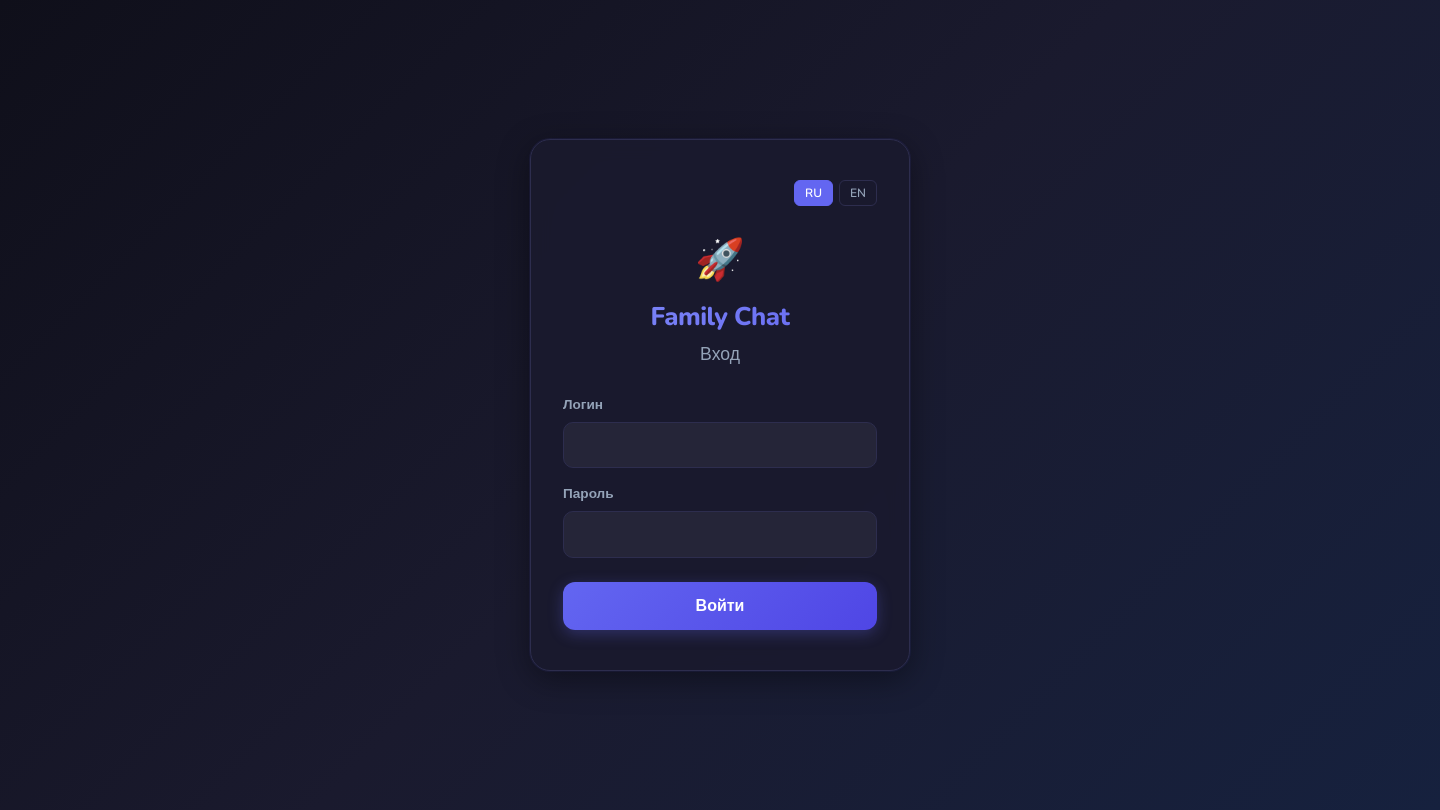
it: Login errors › shows user_inactive message
Type "parent" into the field labelled "Логин" at [720, 445], box [563,422,877,468]
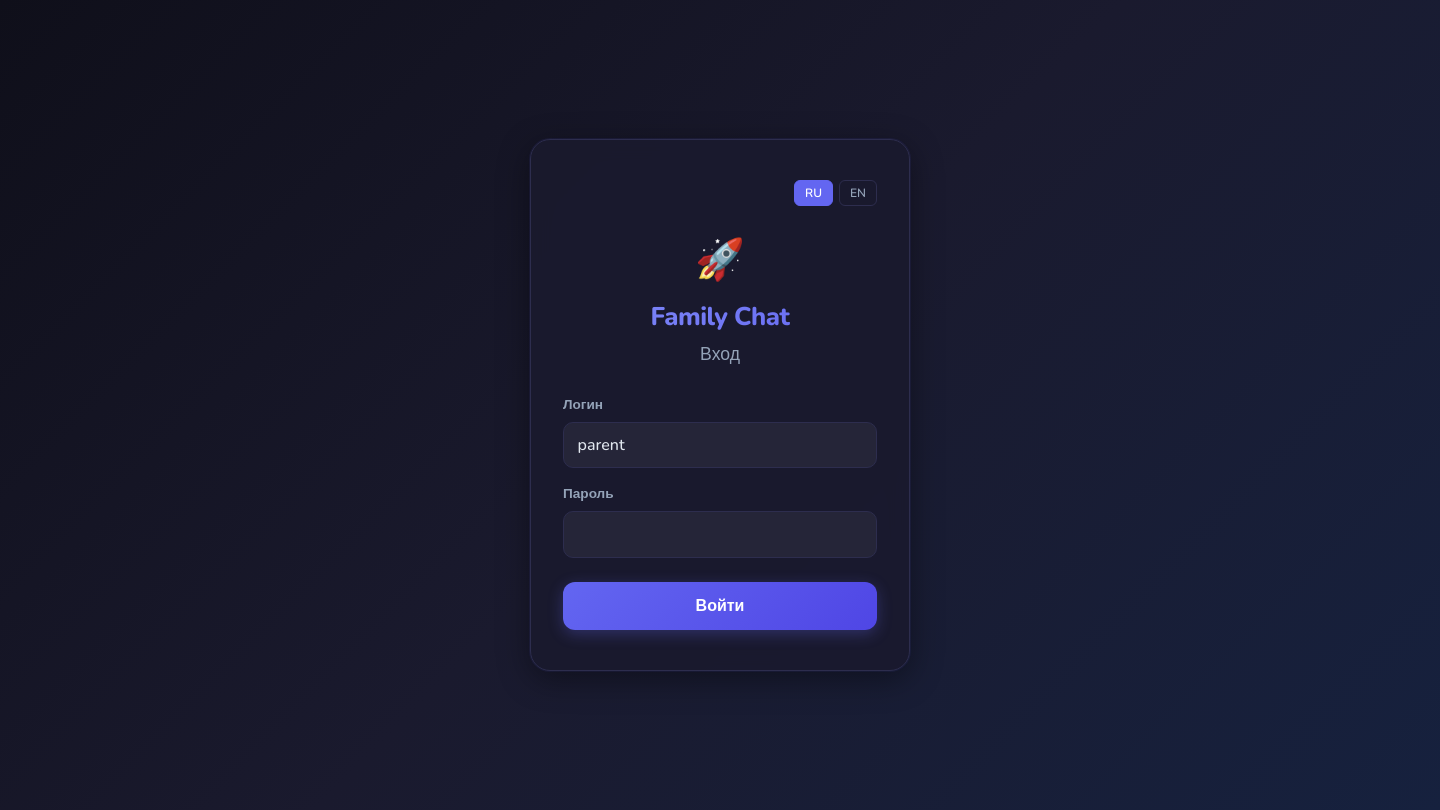
Type "secret" into the password field labelled "Пароль" at [720, 534], box [563,511,877,558]
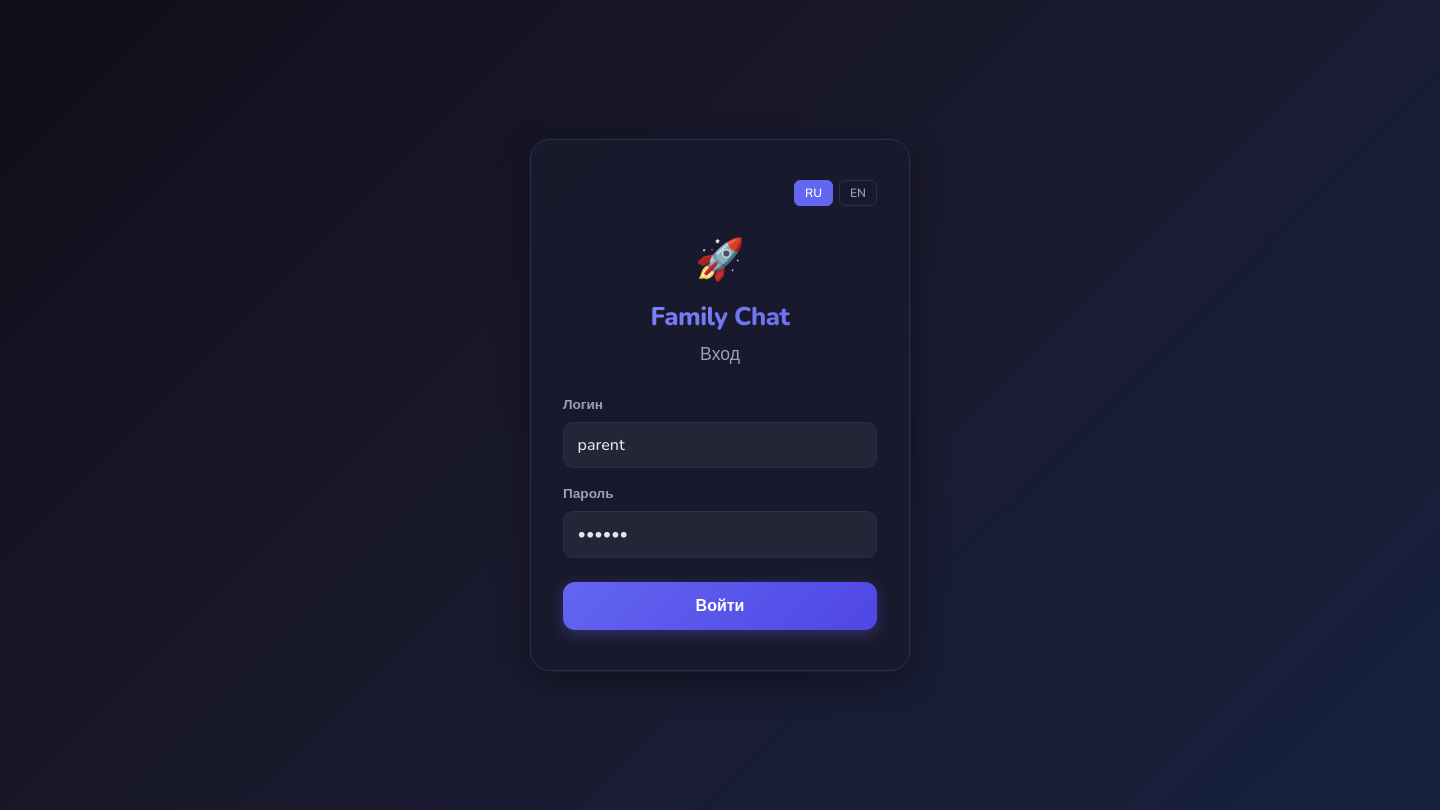
Click the button "Войти" at [720, 606], box [563,582,877,630]
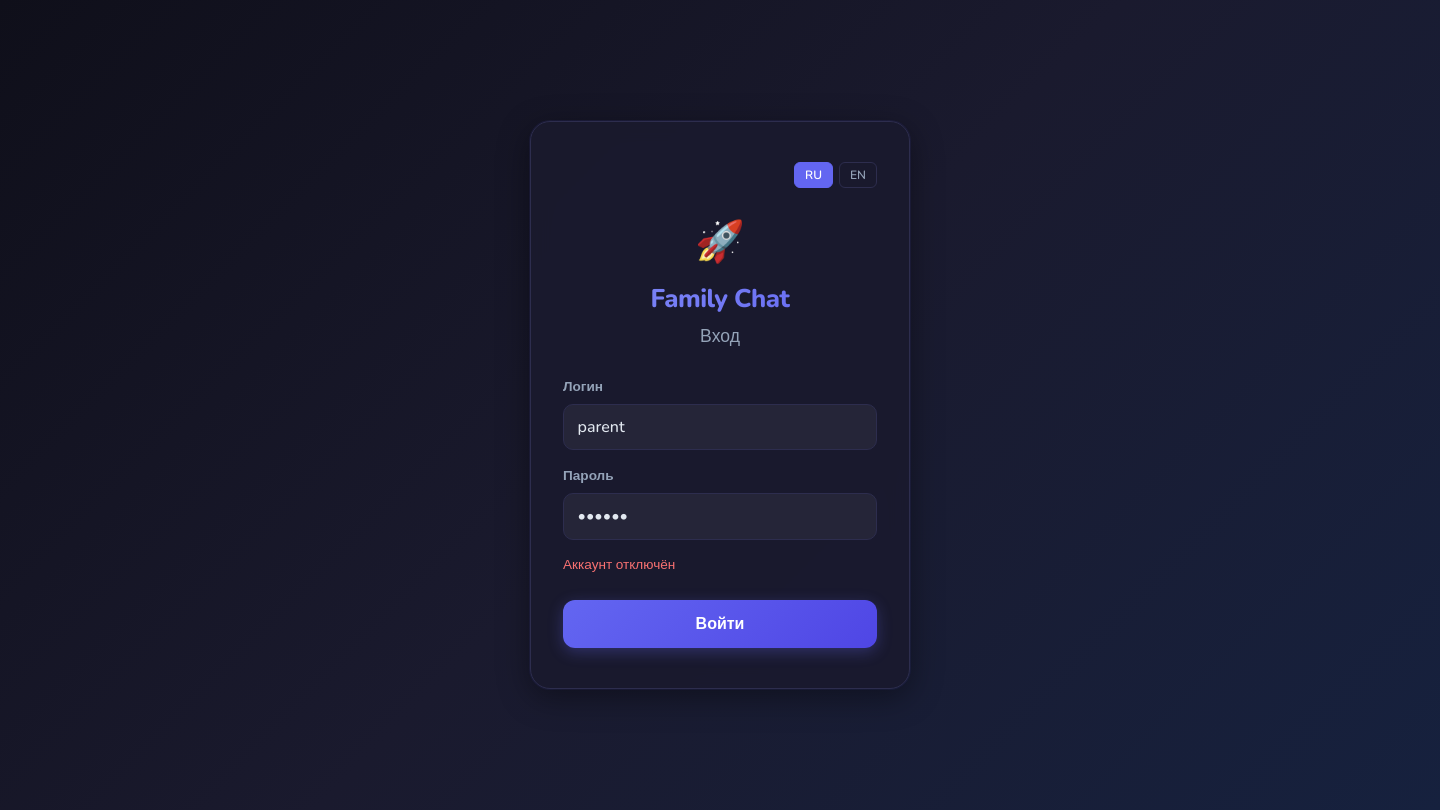
expect the text "Аккаунт отключён" is shown: met, box [563,555,675,574]
